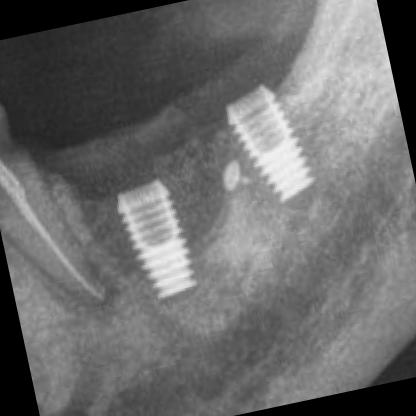Bicon: (224, 77, 319, 209), (115, 166, 202, 307)
